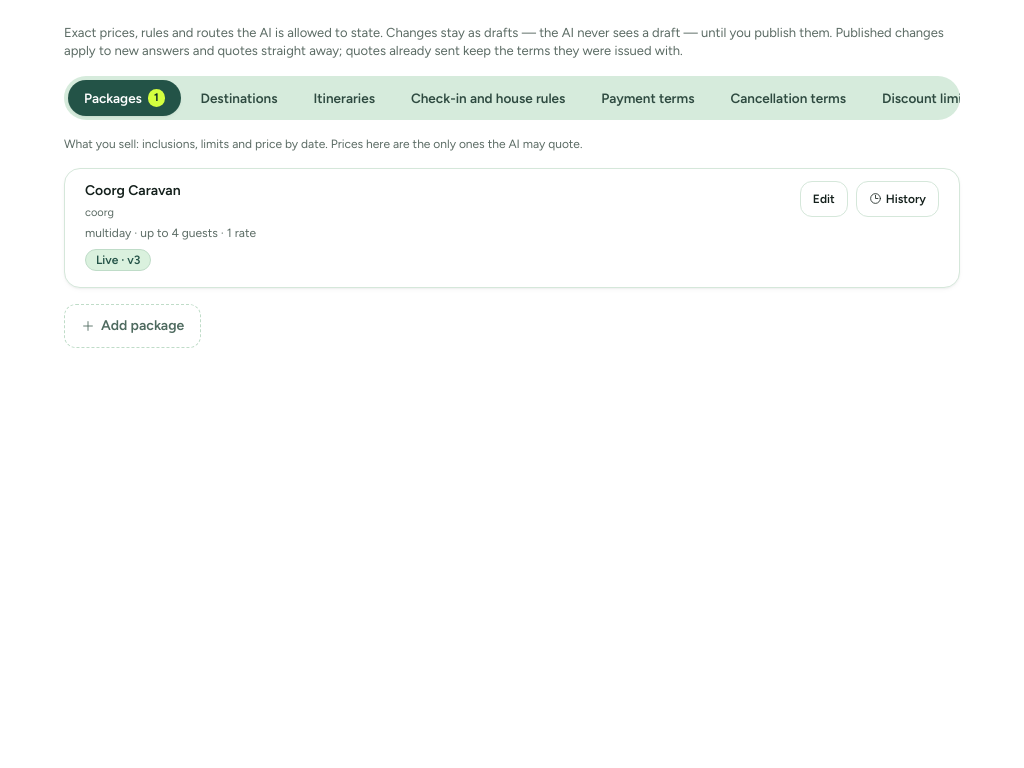
Test: Structured Business Data tab › saves a draft, shows the validation result and the diff, and blocks publishing while there are errors
The image size is (1024, 768).
Click the button "Edit" at (824, 199), box [800,181,848,217]
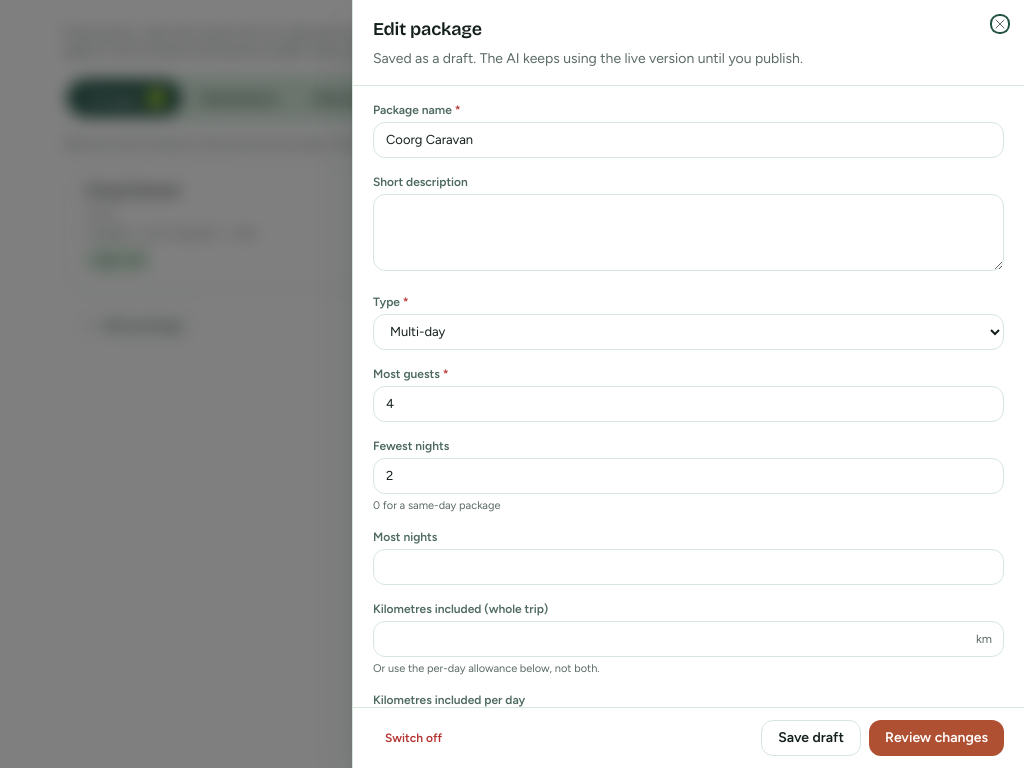
Click the button "Review changes" at (936, 738), box [869,720,1004,756]
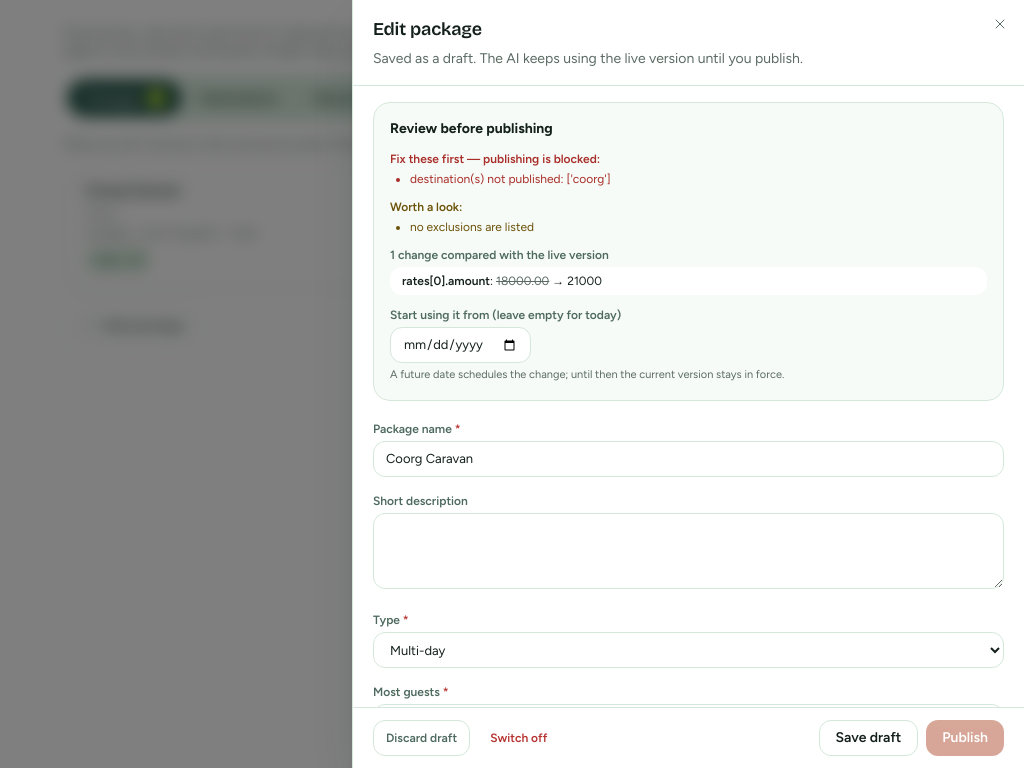
Expected: the text "Fix these first — publishing is blocked:" is shown, [390,152,600,166]
Expected: the list item "destination(s) not published: ['coorg']" is shown, [410,172,611,186]
Expected: the text "rates[0].amount" is shown, [402,274,490,288]
